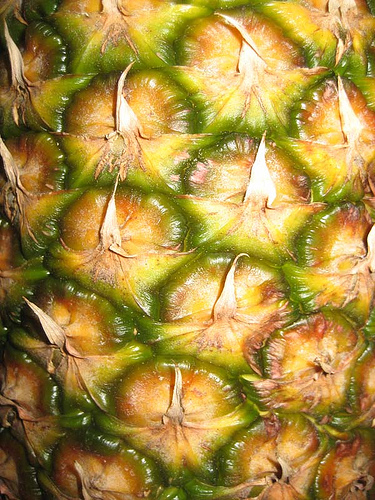pineapple: (0, 1, 373, 498)
